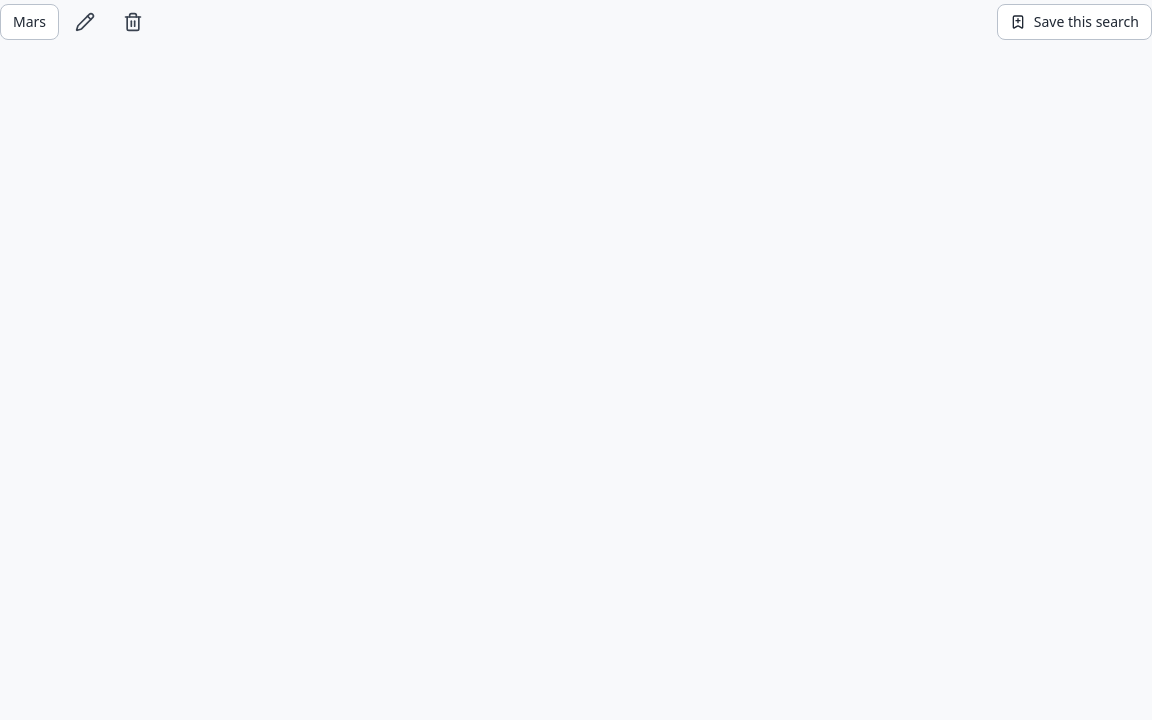
Test: SavedSearches › renames a preset in place, keeping its filters
Click the button named "Rename search: Mars".
click(85, 22)  # box [63,0,107,44]
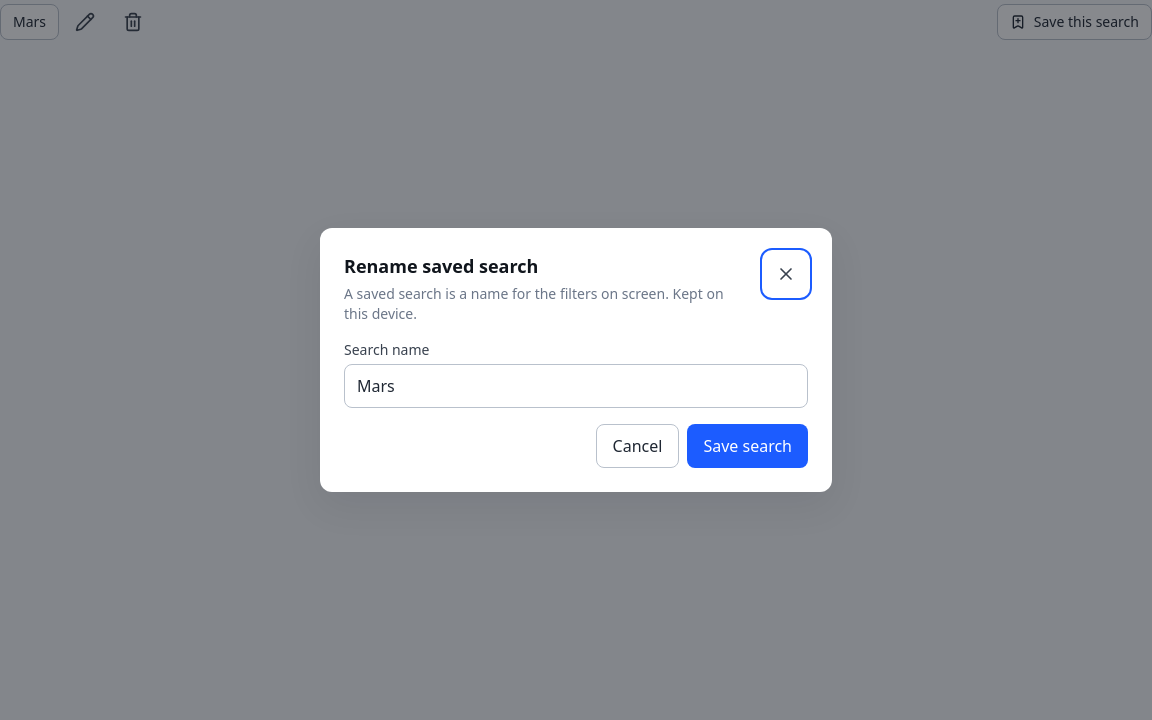
Now the field labelled "Search name" holds "Mars"
Replace the text in the field labelled "Search name" with "Red planet" at point(576, 386), box [344,364,808,408]
Then press Enter
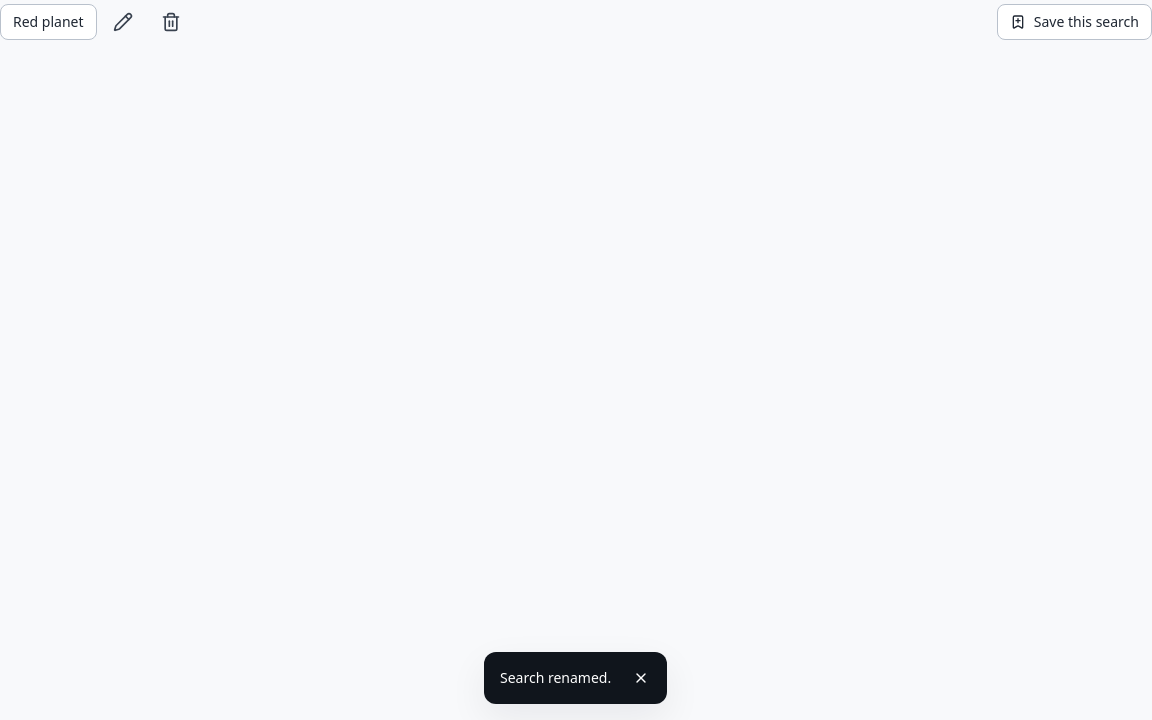
Now the button "Red planet" is shown, box [0,4,96,40]
Now the text "Search renamed." is shown, box [500,668,612,688]
